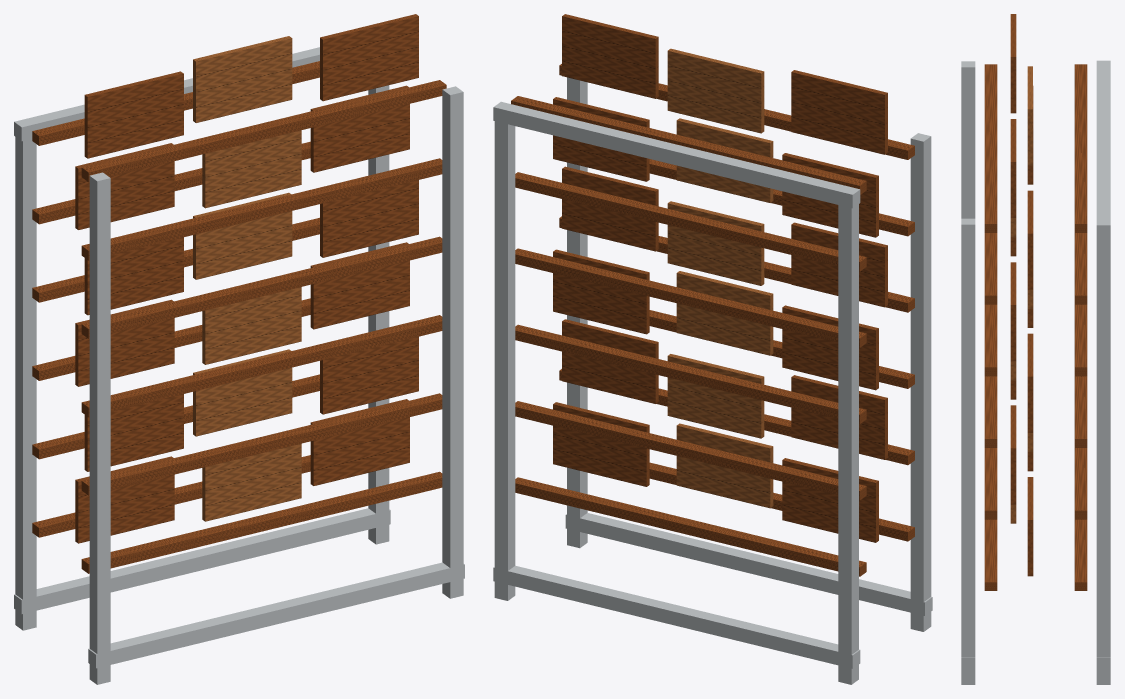
The model's file is woodworking-workshop-and-joinery-woodworking-workshop--f9f39a5a__34266.glb.
3 renders of one model, left to right at view 1: azimuth 30°, elevation 25°; view 2: azimuth 150°, elevation 25°; view 3: azimuth 270°, elevation 25°, orthographic. The views are drawn at different scales.
Visible parts, largest first — view 1: woodworking-workshop-and-joinery-drying-rack; view 2: woodworking-workshop-and-joinery-drying-rack; view 3: woodworking-workshop-and-joinery-drying-rack.
Part boxes in pixels (x1,y1,x2,y2): woodworking-workshop-and-joinery-drying-rack: [14, 14, 464, 684]; woodworking-workshop-and-joinery-drying-rack: [493, 14, 932, 684]; woodworking-workshop-and-joinery-drying-rack: [961, 14, 1110, 684].
Bounding box in the file's own units: 1.38 × 2.02 × 0.5301.
3 materials, 2 textured.
